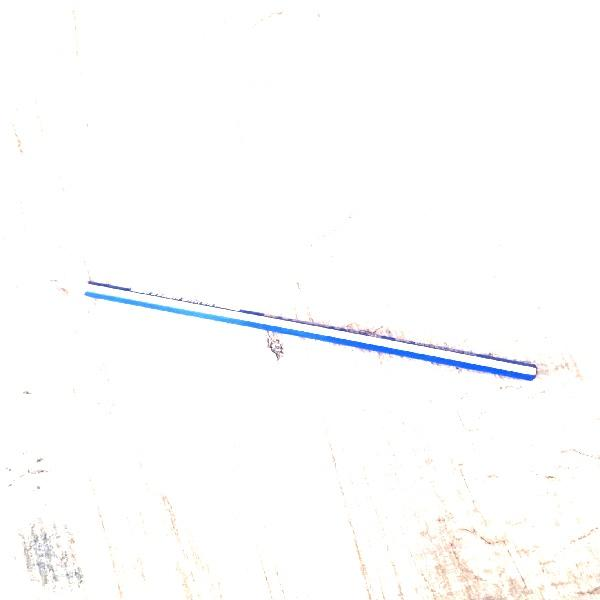pencil: (82, 282, 536, 380)
